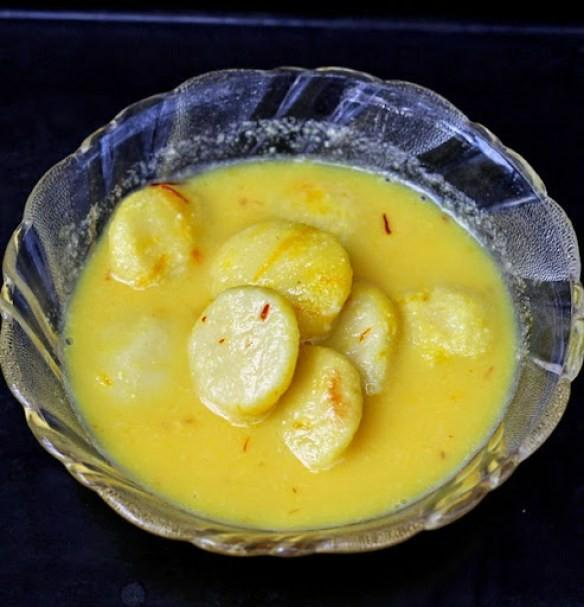RasMalai: (67, 155, 516, 528)
